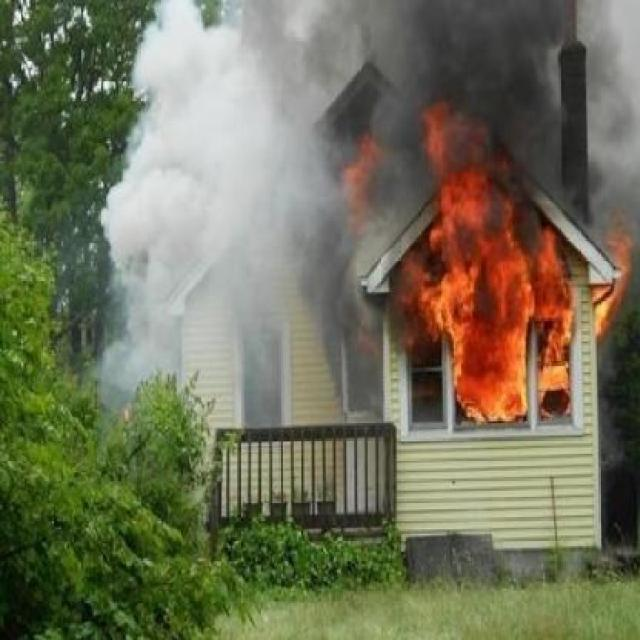Fire: (406, 202, 580, 416)
Smoke: (222, 23, 596, 208)
